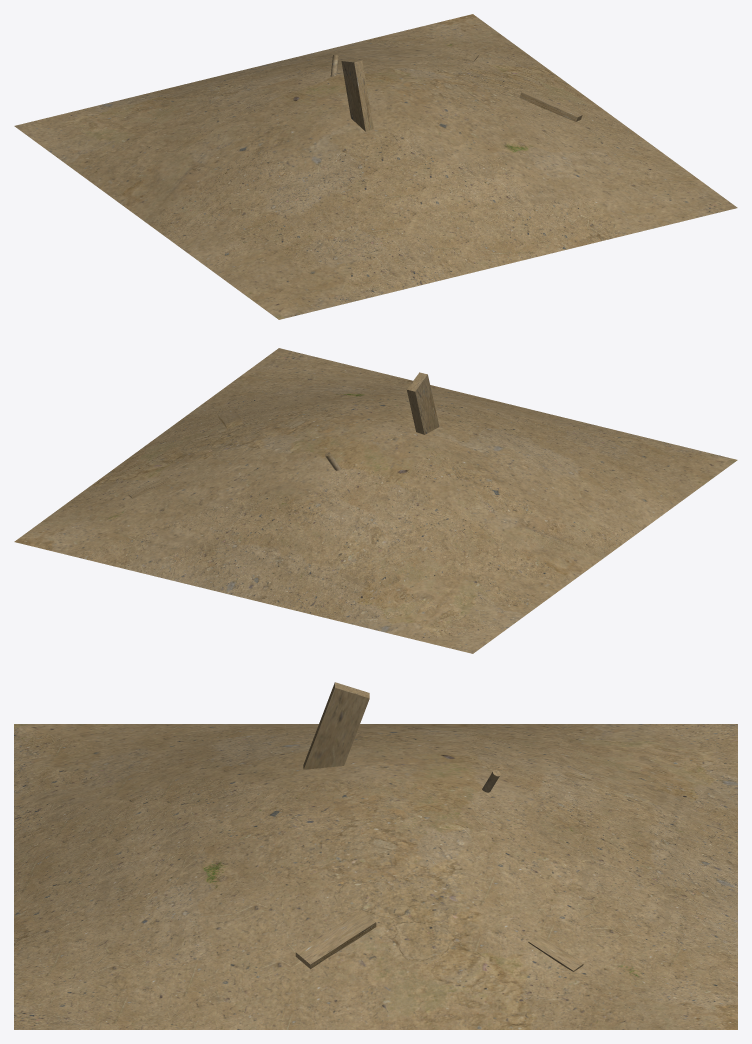
File: DebrisPlane.fbx
3 renders of one model, top to bottom at view 1: azimuth 30°, elevation 25°; view 2: azimuth 150°, elevation 25°; view 3: azimuth 270°, elevation 25°, orthographic. The views are drawn at different scales.
Visible parts, largest first — view 1: DebrisPlane; view 2: DebrisPlane; view 3: DebrisPlane.
Part boxes in pixels (bbox=[...]): DebrisPlane: bbox=[14, 14, 737, 319]; DebrisPlane: bbox=[14, 348, 737, 653]; DebrisPlane: bbox=[14, 682, 737, 1029].
Bounding box in the file's own units: 11.48 × 2.98 × 11.48.
1 material, 1 textured.
